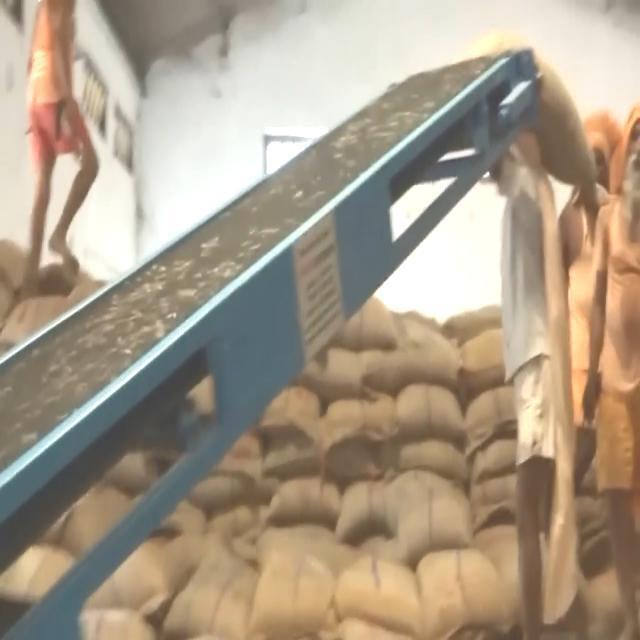gunny_bag: (482, 32, 603, 193)
